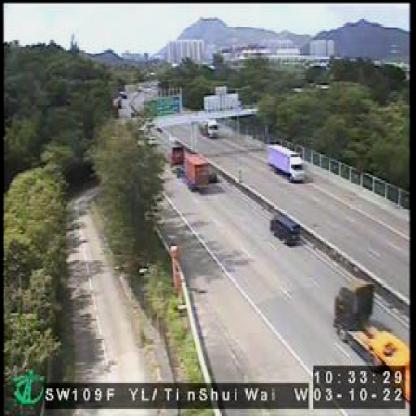Car: (270, 212, 296, 245), (182, 154, 207, 186)
Truck: (334, 277, 410, 399), (268, 142, 305, 182), (196, 118, 220, 137)
